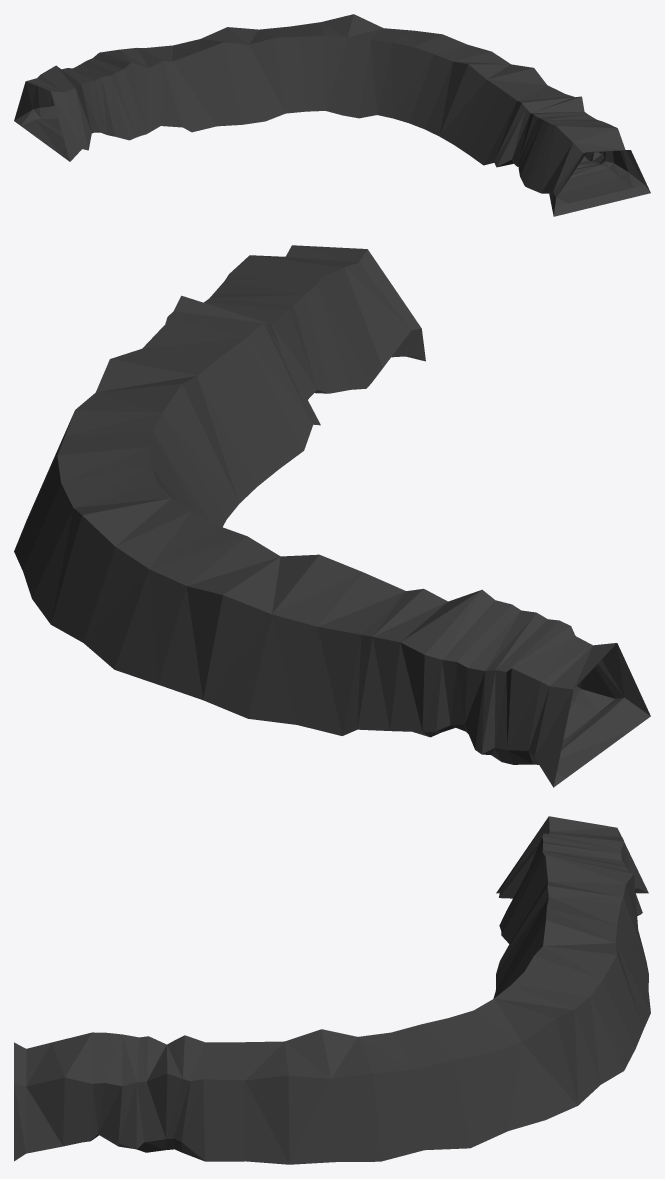
Rendered from Cave_12_LOD_2.fbx.
3 renders of one model, top to bottom at view 1: azimuth 30°, elevation 25°; view 2: azimuth 150°, elevation 25°; view 3: azimuth 270°, elevation 25°, orthographic. The views are drawn at different scales.
Parts seen in each view (by area): view 1: polySurface36; view 2: polySurface36; view 3: polySurface36.
Part boxes in pixels (left/top/right/bottom): polySurface36: left=14, top=14, right=650, bottom=216; polySurface36: left=14, top=245, right=650, bottom=787; polySurface36: left=14, top=816, right=650, bottom=1164.
Size of the model in its own units: 34.35 by 5.83 by 34.4.
